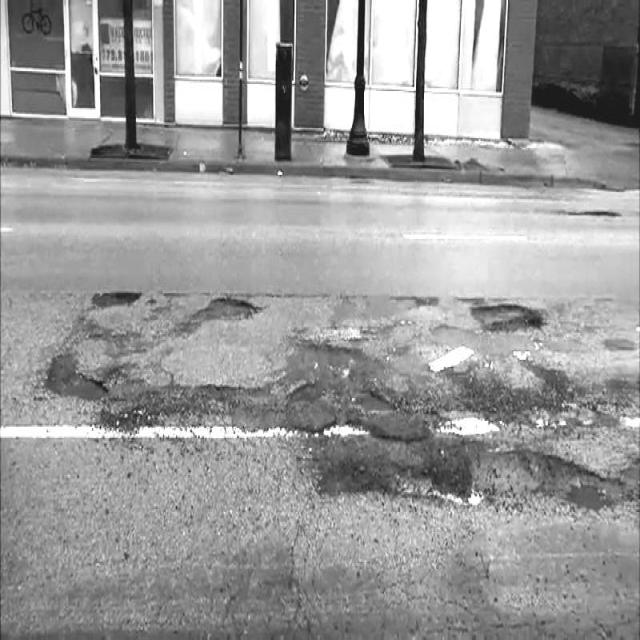pothole: (504, 452, 636, 521), (42, 349, 110, 409), (466, 300, 544, 340), (202, 289, 262, 328), (347, 386, 398, 419), (92, 286, 138, 311)
